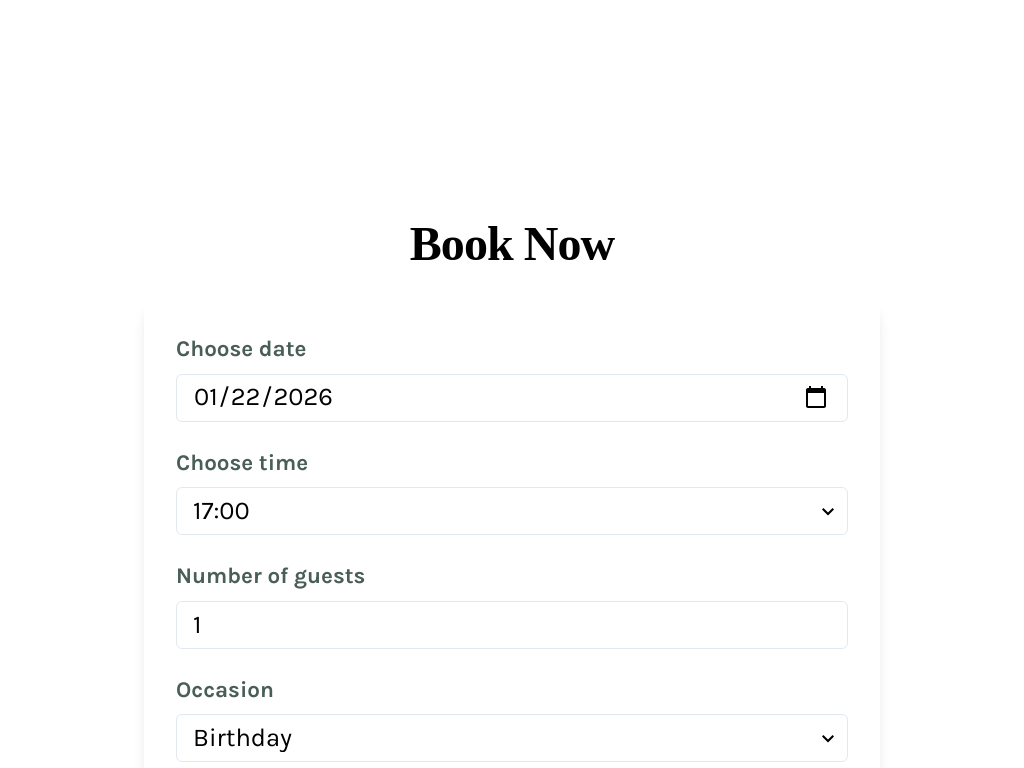
Test: BookingForm › Validation fields - guests must be at most 10
Note: Set invalid value (greater than 10)
In the number field with test id "guests": coordinates (512, 625) [176, 601, 848, 649], type "11"
(page scrolled)
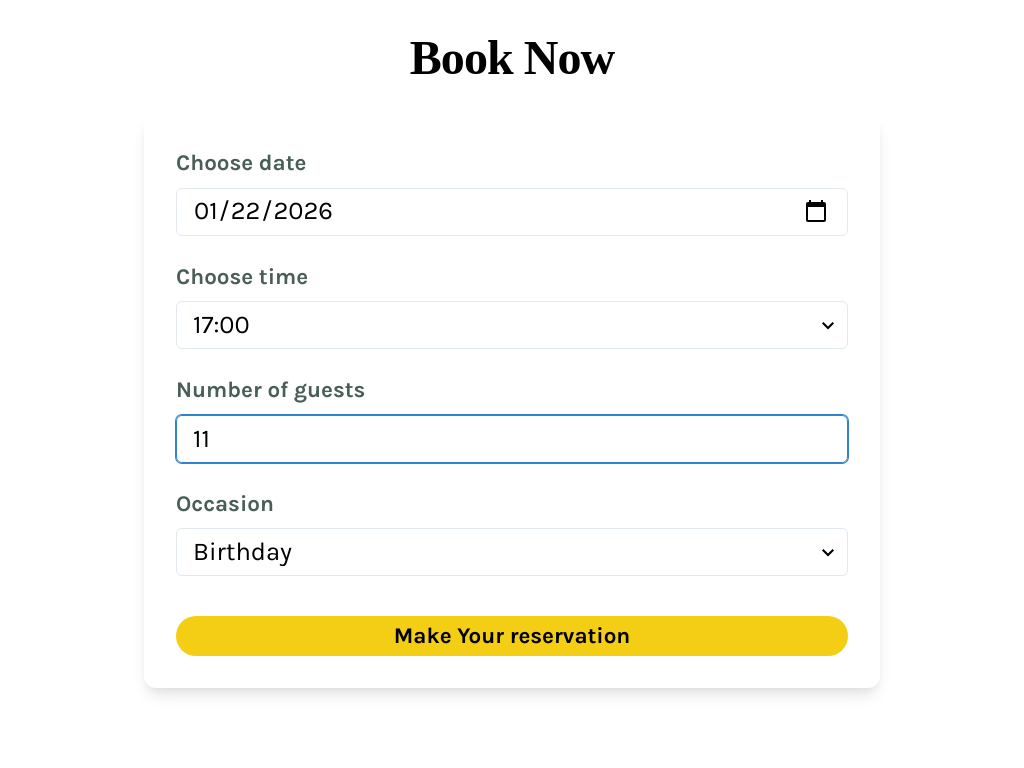
Note: Submit the form
Click the button "Make Your reservation": coordinates (512, 636) [176, 616, 848, 656]
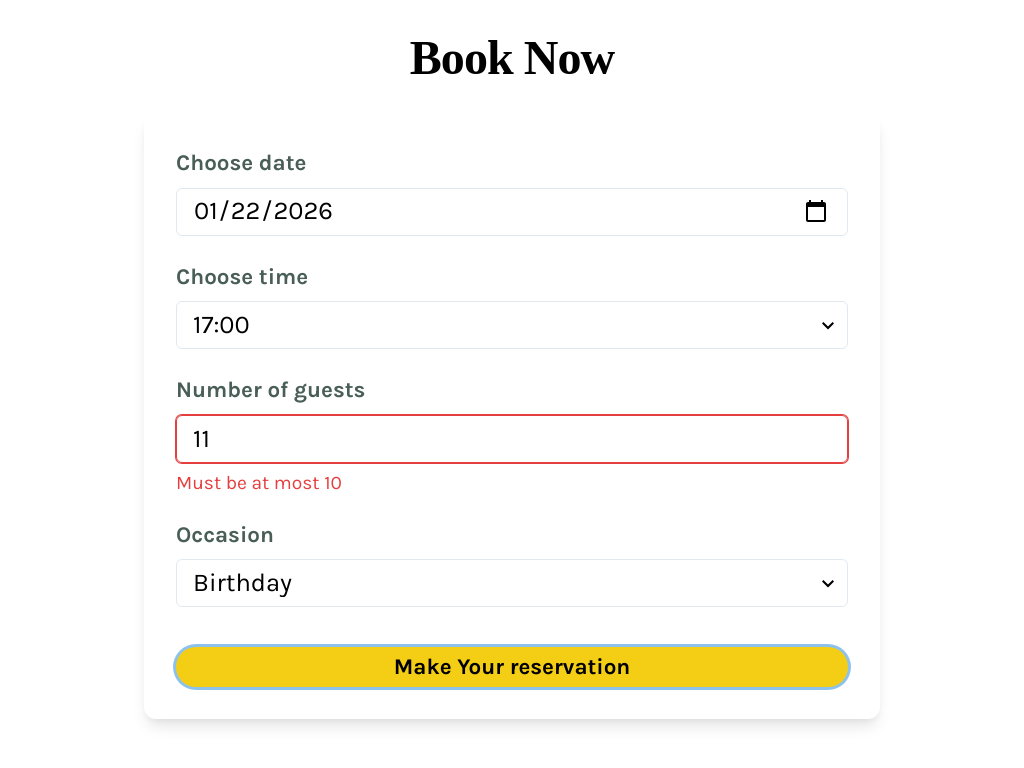
expect the text with test id "guests-error" reads "Must be at most 10": met, box [176, 471, 342, 494]
